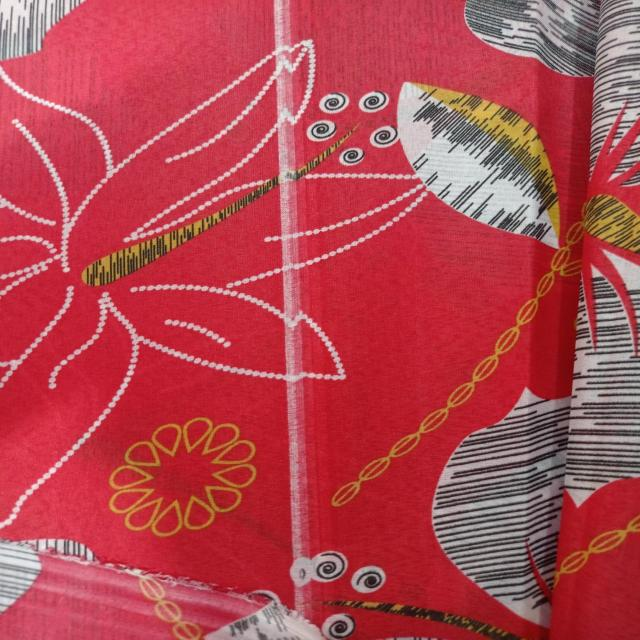selvet: (280, 322, 312, 640), (273, 0, 302, 321)
